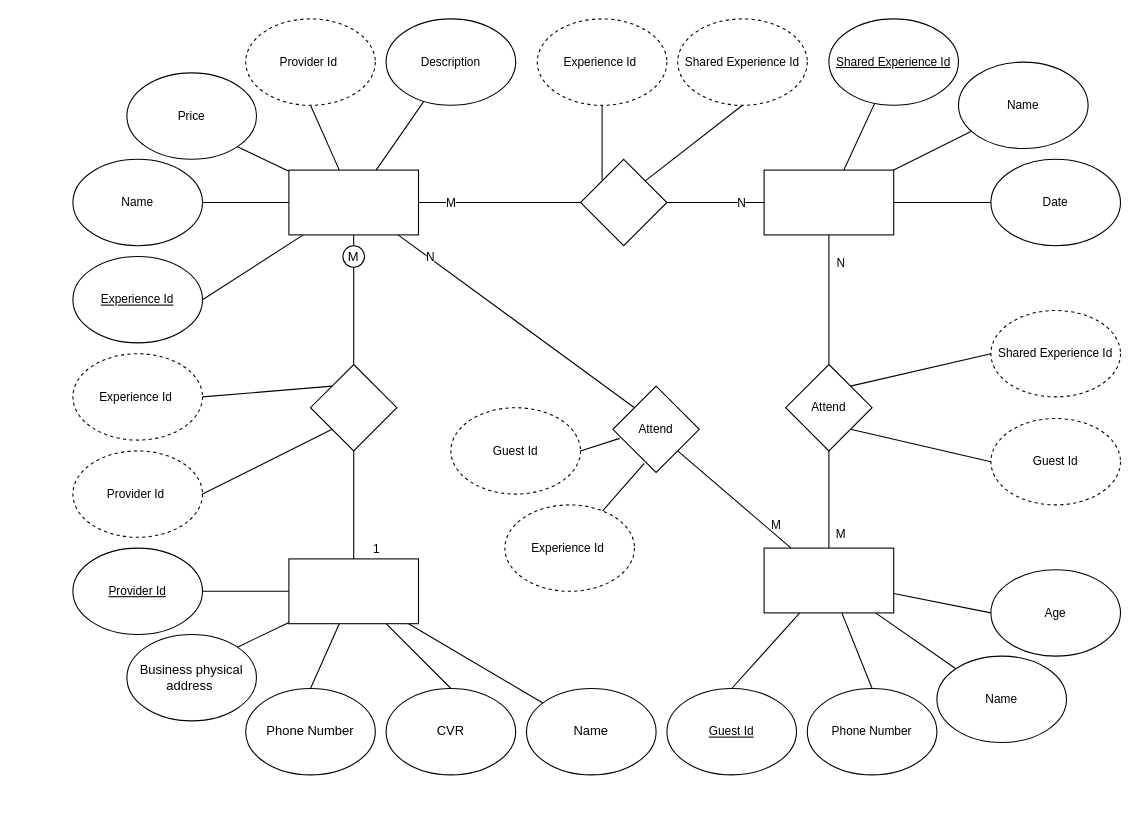
This 1139x815 diagram has some shape labels left out. Here are the shapes that lost their labels. From the top down, the centre of each, then its label:
At pixel 353 202: "Experience".
At pixel 623 202: "Consists of".
At pixel 828 202: "Shared Experiences".
At pixel 353 407: "Provide".
At pixel 353 591: "Provider".
At pixel 828 580: "Guests".
